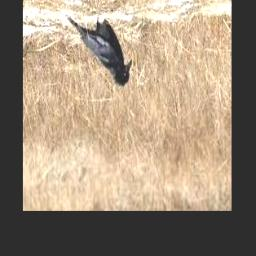Crow: (66, 14, 132, 88)
